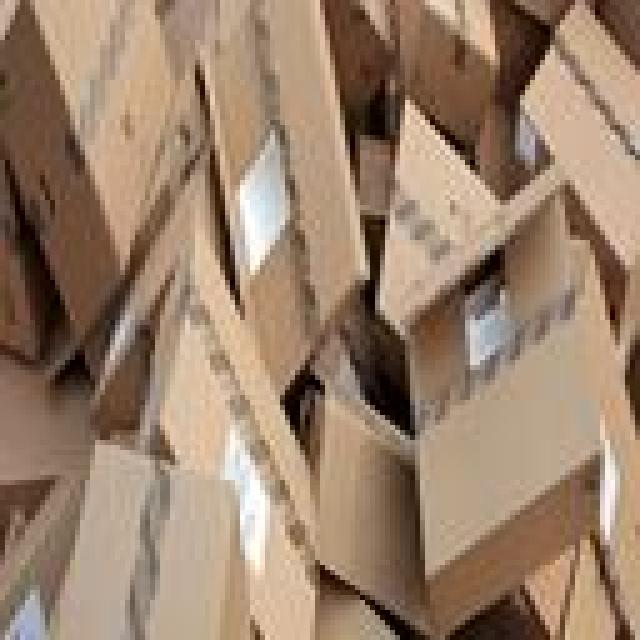cardboard: (0, 0, 635, 635), (395, 150, 605, 630), (190, 0, 360, 385), (155, 240, 310, 635), (0, 0, 165, 325), (0, 435, 240, 635), (510, 0, 635, 330), (305, 365, 440, 630), (515, 360, 635, 635), (365, 95, 500, 315), (0, 350, 135, 480), (385, 0, 495, 145), (0, 160, 50, 360), (325, 0, 385, 130)
